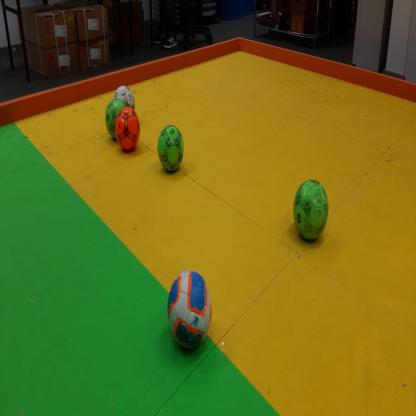ball: (168, 270, 212, 350), (294, 179, 328, 241), (158, 124, 184, 173), (116, 107, 140, 152), (106, 99, 125, 138), (114, 86, 136, 110)
